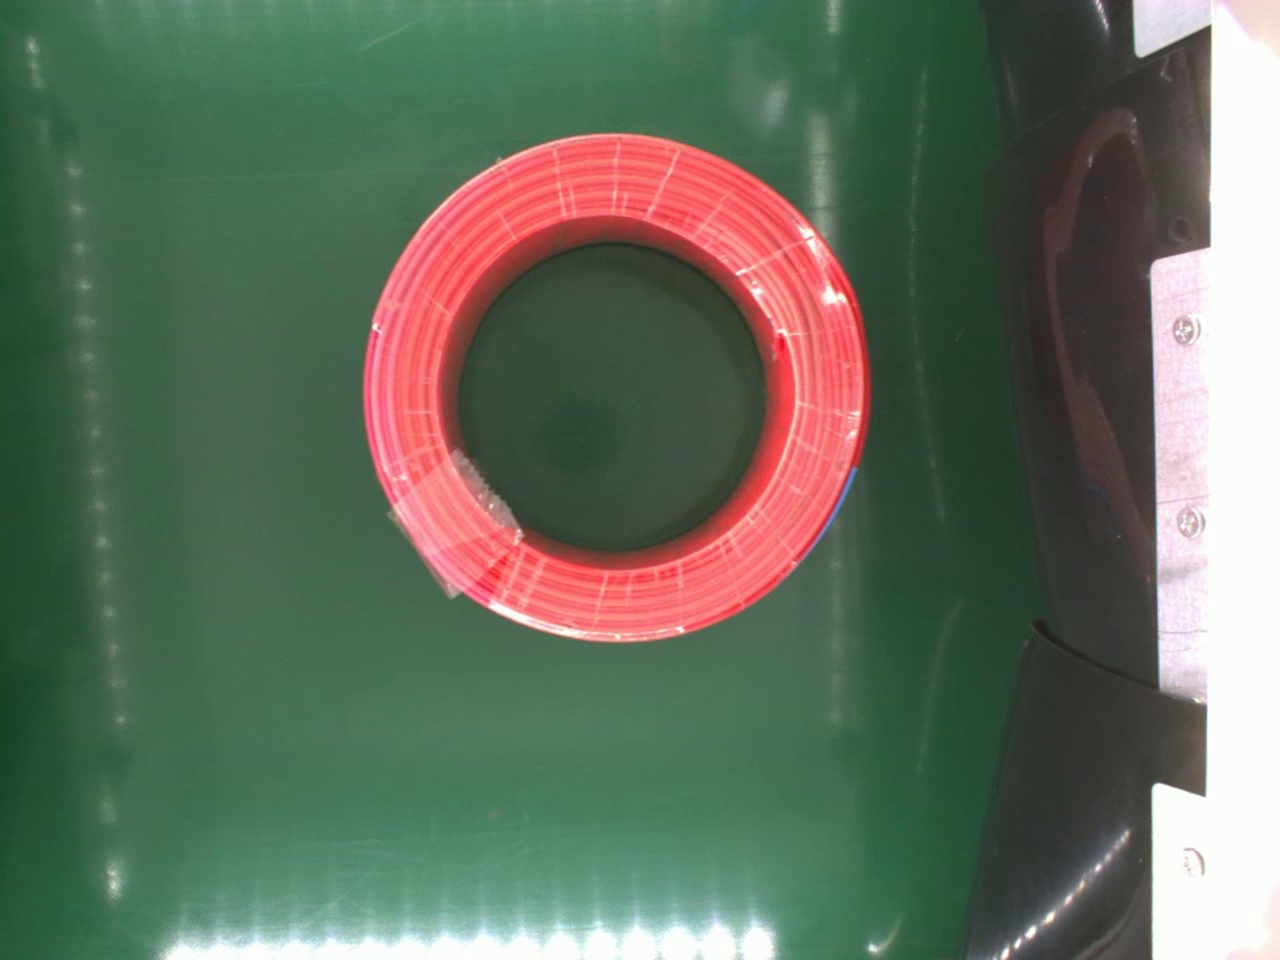red: (351, 134, 872, 645)
